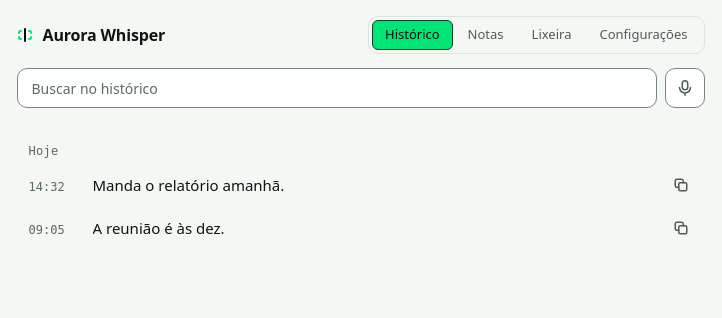
Test: no meio do uso › a rede que cai acende a faixa Sem conexão, com a lista no lugar
The width and height of the screenshot is (722, 318).
What coordinates should you click on to do the following:
click the button "Lixeira"
I would click on:
 (552, 35)
Its box is [519,20,584,50].
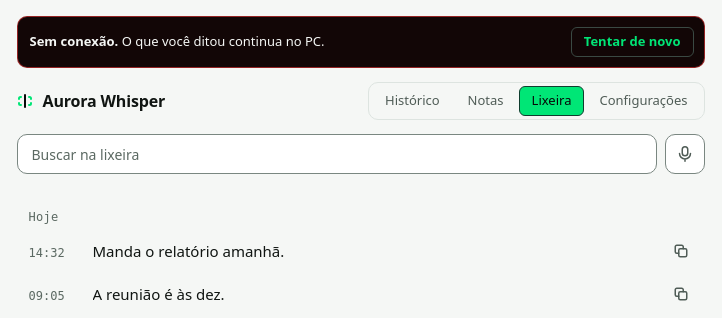
Expected: the button "14:32 Manda o relatório amanhã." is shown, [16,230,704,272]
Result: the message shows "Sem conexão." at [30,32,118,50]
Result: the message shows "O que você ditou continua no PC." at [118,32,324,50]
What coordinates should you click on to do the following:
click the button "Tentar de novo"
I would click on:
 (632, 42)
Its box is [571,27,694,57].
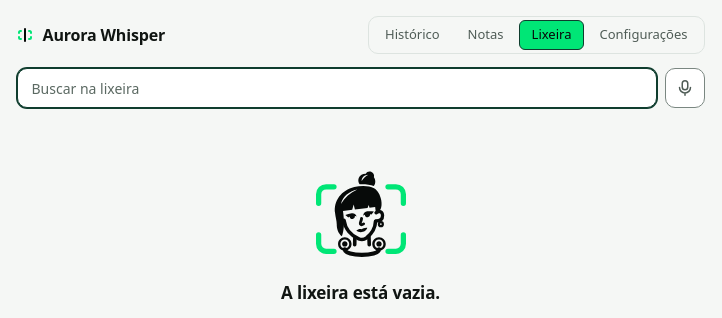
Result: the message "Sem conexão. O que você ditou continua no PC. Tentar de novo" is gone
